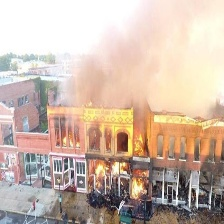fire: (91, 161, 144, 200), (59, 135, 85, 150), (133, 133, 145, 155)
smoke: (64, 1, 224, 104)
